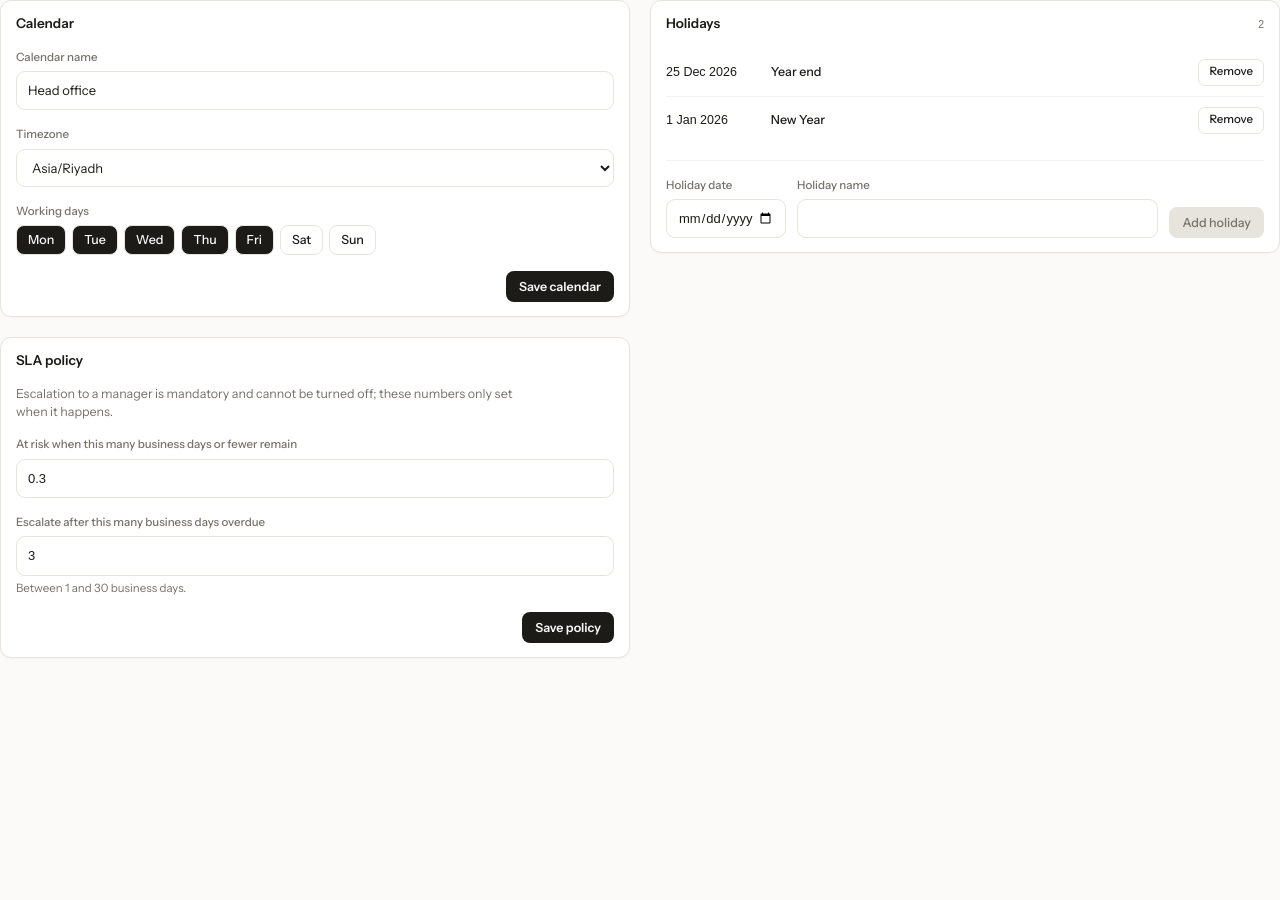
Test: business calendar page › adds a holiday and reports a duplicate date as a 409
In the date field labelled "Holiday date": (726, 219) [666,199,786,238], type "2026-05-01"
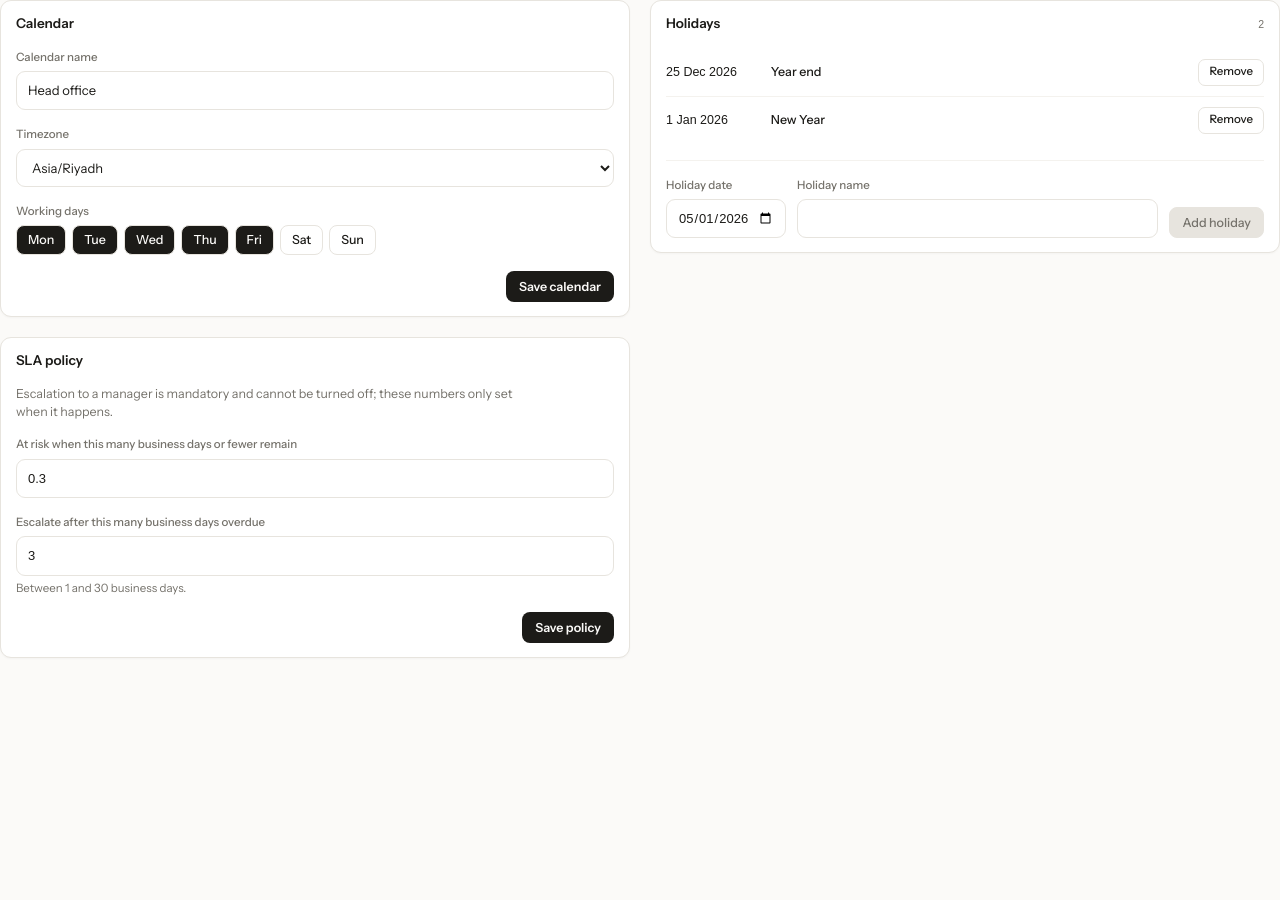
In the field labelled "Holiday name": (978, 219) [797,199,1158,238], type "Labour Day"
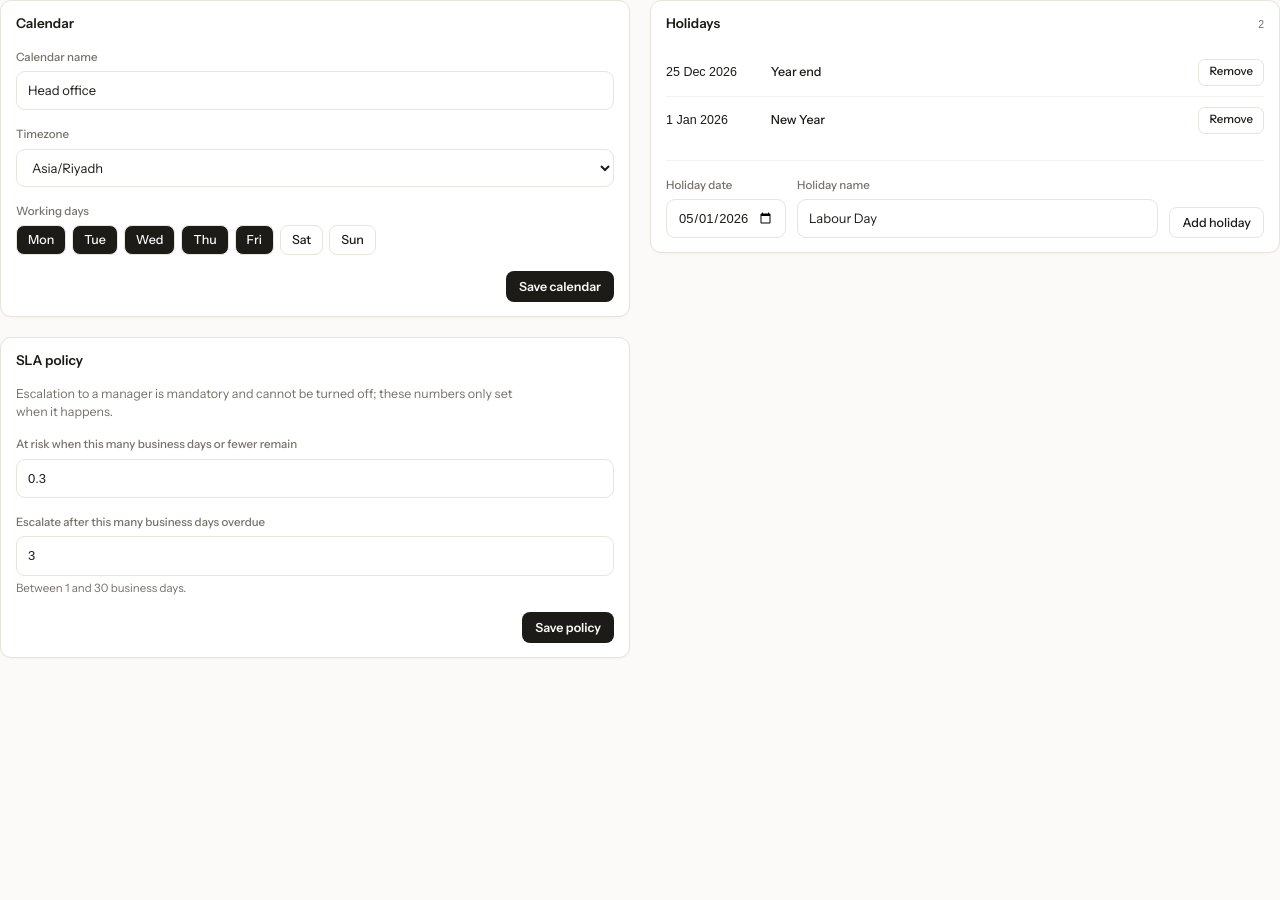
Click the button "Add holiday": click(1217, 223) [1169,207,1264,238]
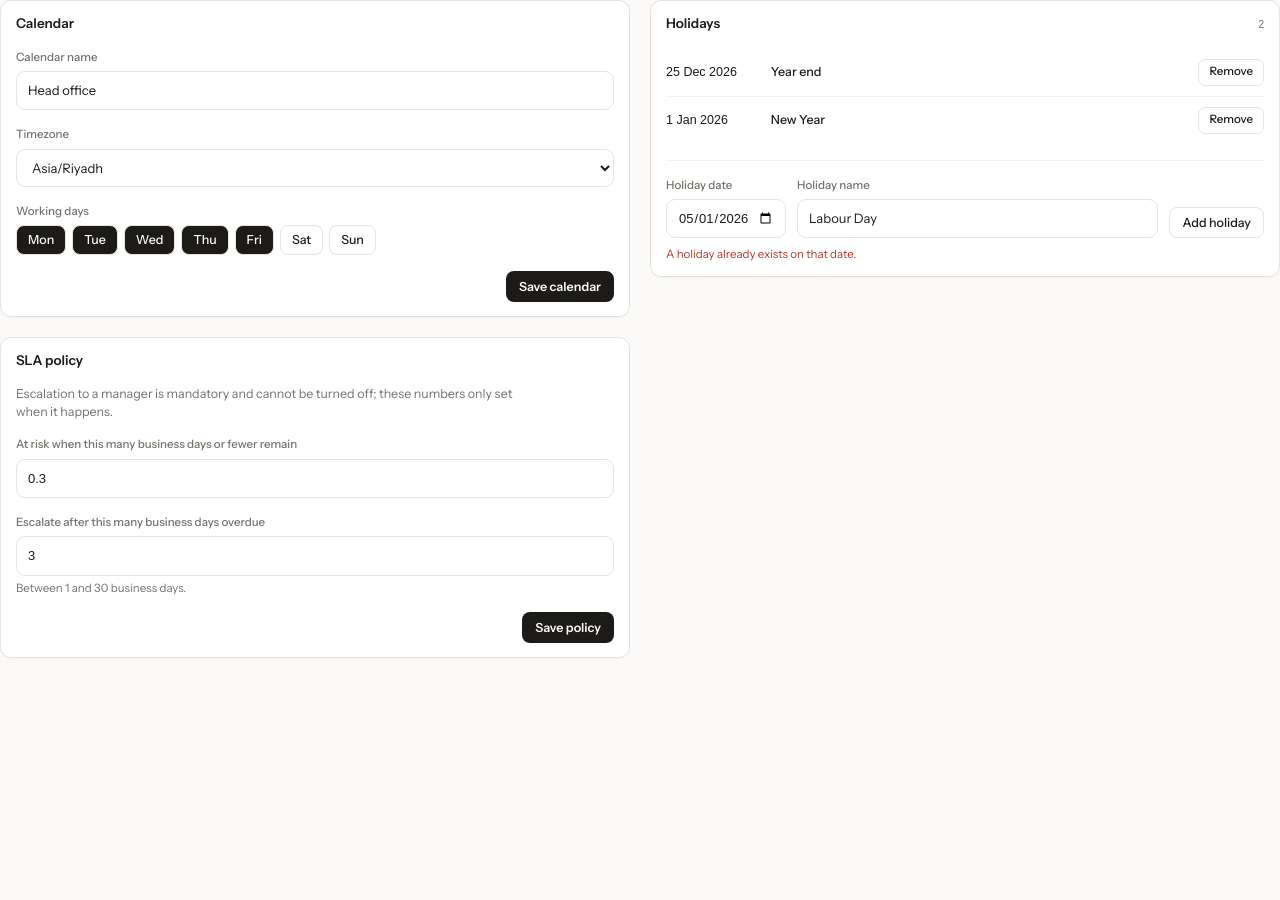
Expected: the text "A holiday already exists on that date." is shown, [666,247,856,261]
